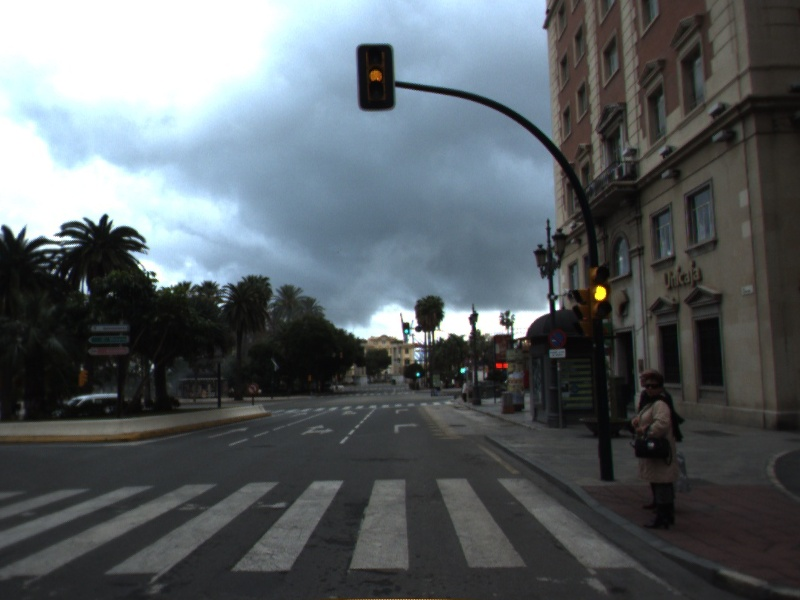RIGHT: (391, 419, 422, 436)
STRAIGHT: (205, 425, 251, 440)
STRAIGHT_RIGHT: (298, 422, 336, 438)
